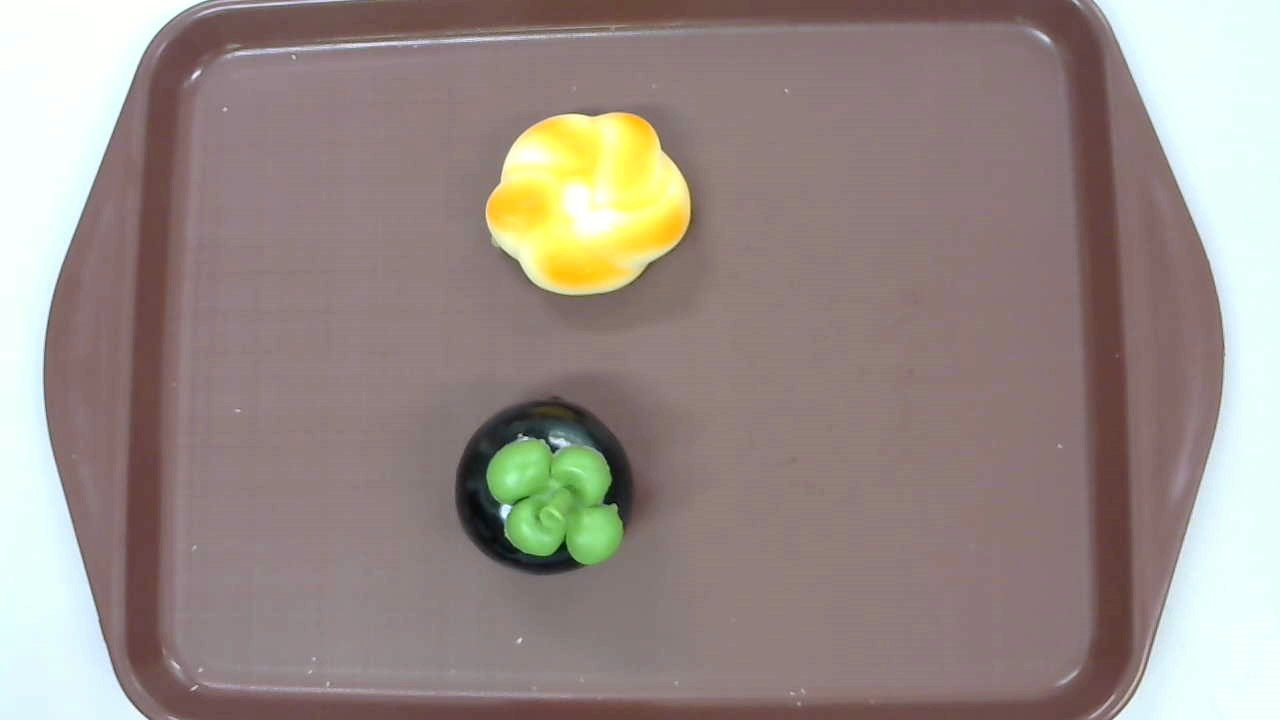mangosteen: (455, 396, 635, 576)
twist bread: (486, 111, 693, 298)
